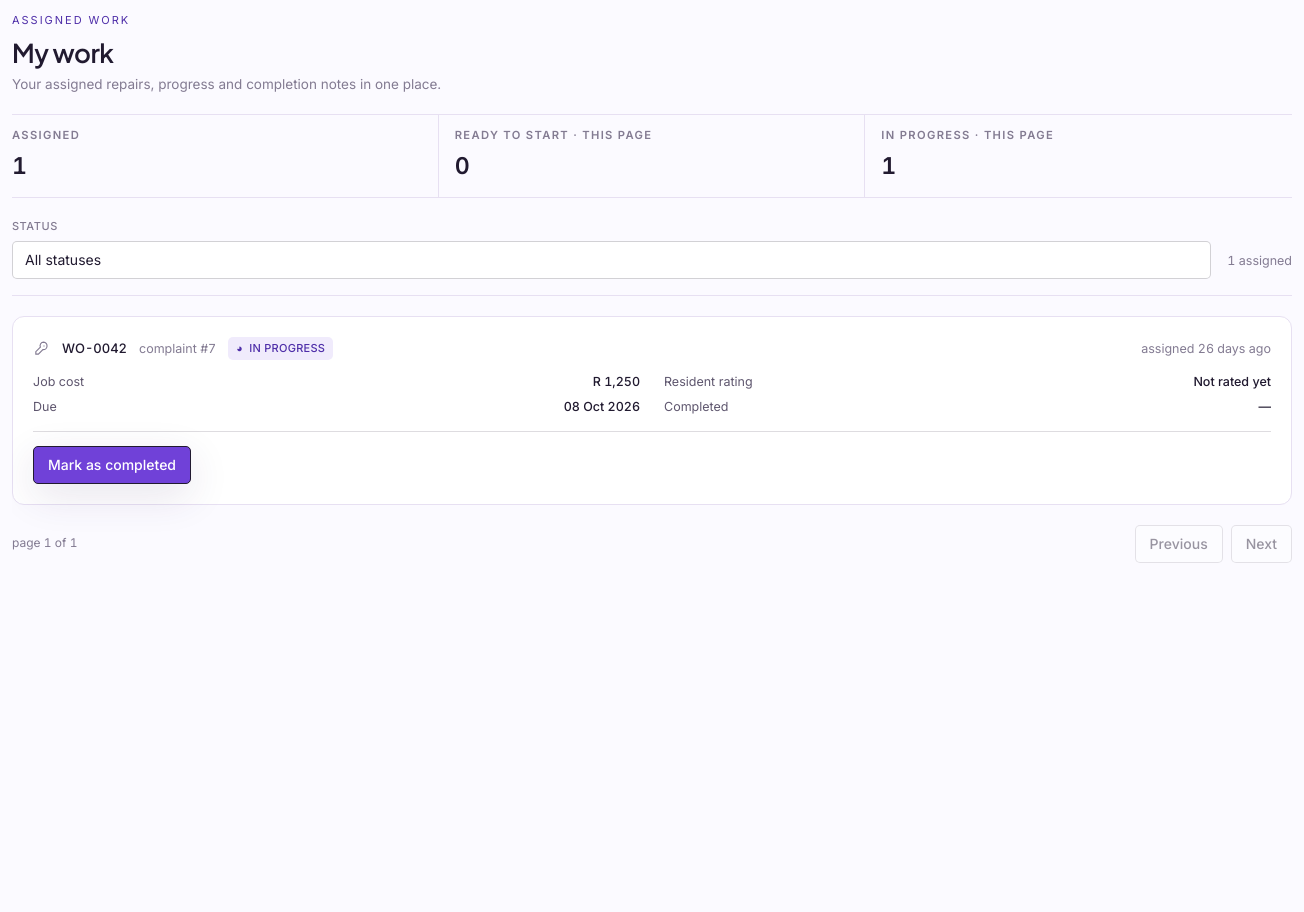
ProviderWork — transitions › shows a refused transition as the server described it
Click the button "Mark as completed".
click(112, 465)  # box [33,446,191,484]
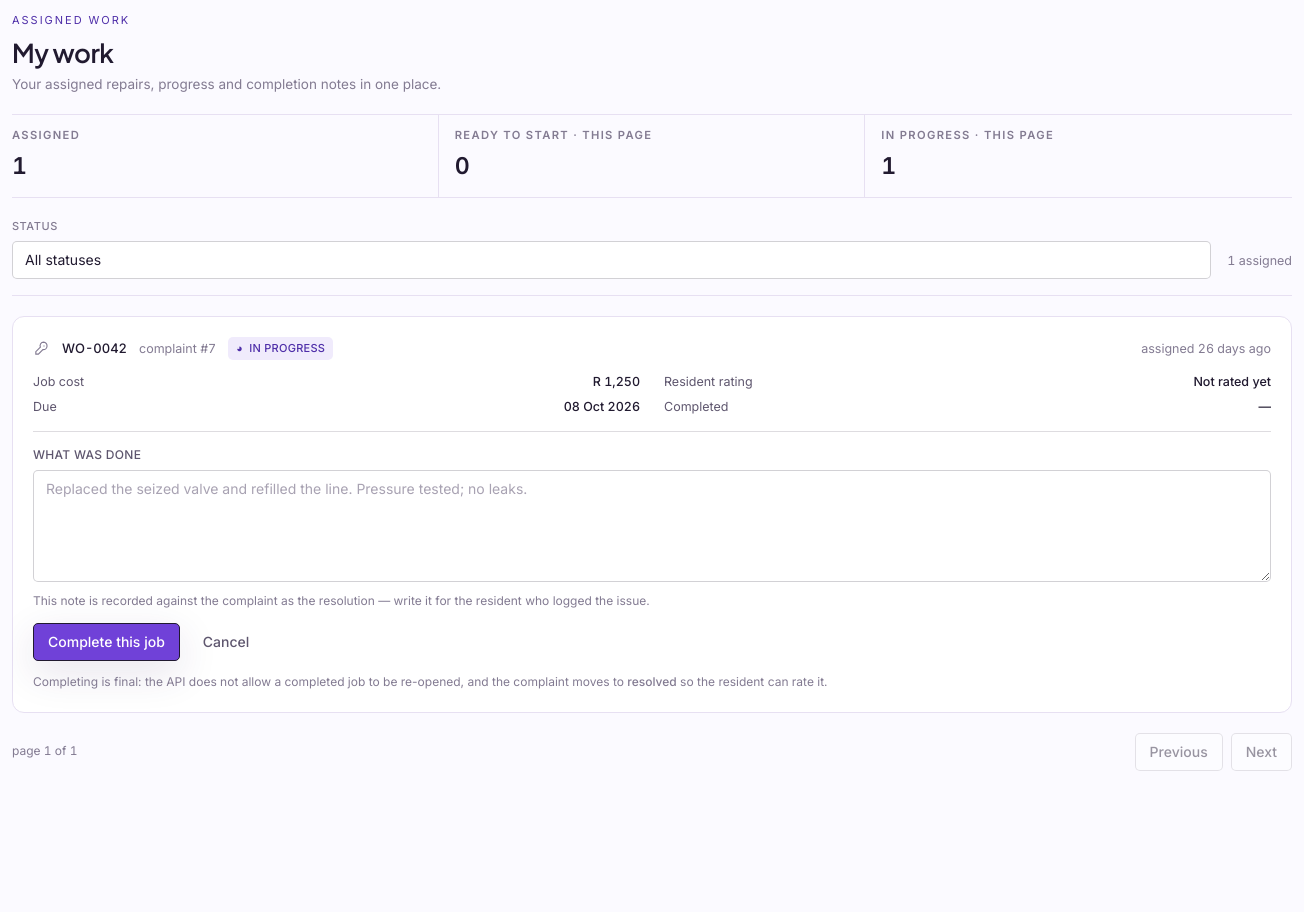
Click the button "Complete this job".
click(106, 642)  # box [33,623,180,661]
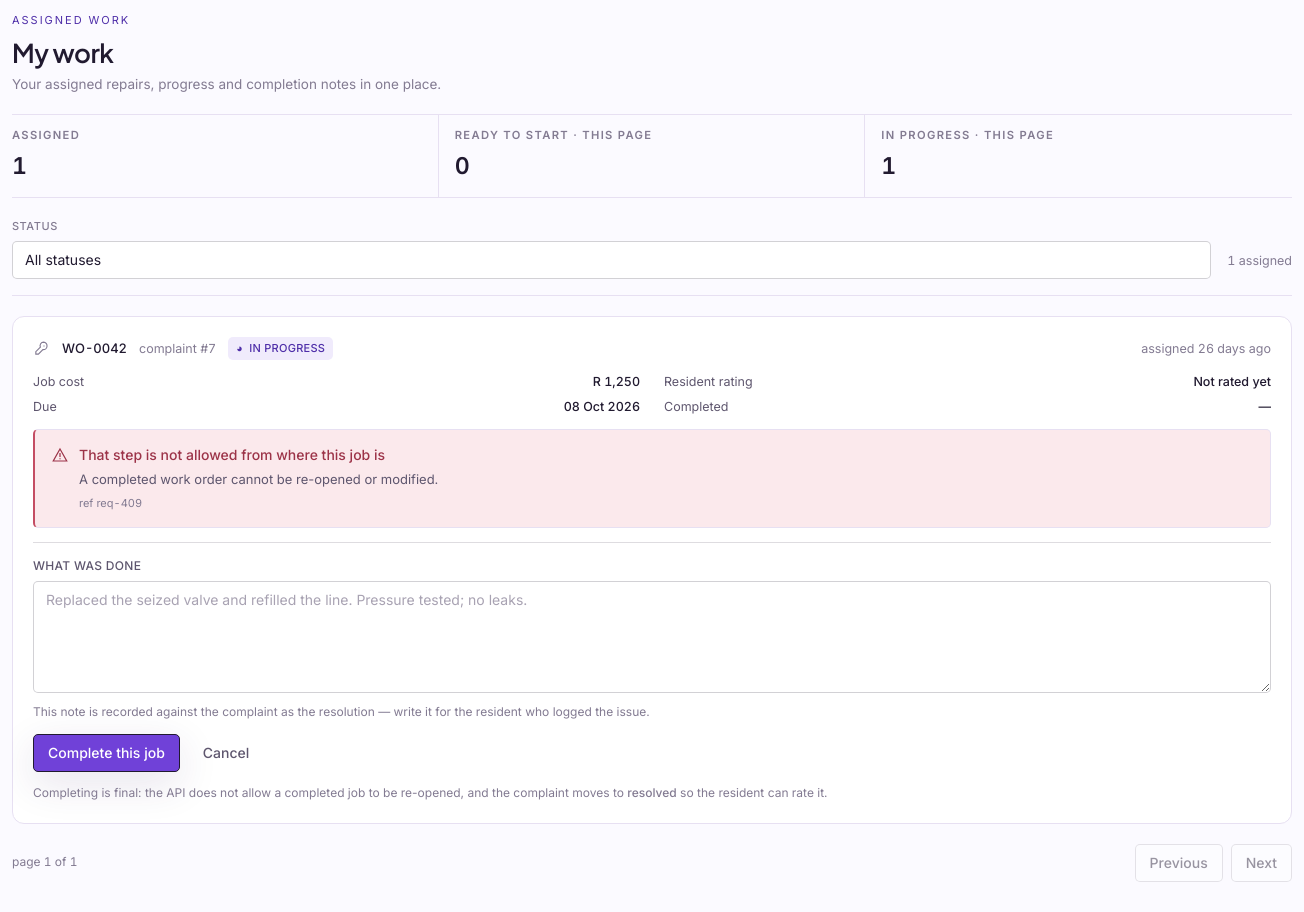
Expected: the text "That step is not allowed from where this job is" is shown, [79,444,438,465]
Expected: the text "A completed work order cannot be re-opened or modified." is shown, [79,469,438,489]
Expected: the text "ref req-409" is shown, [79,496,142,510]
